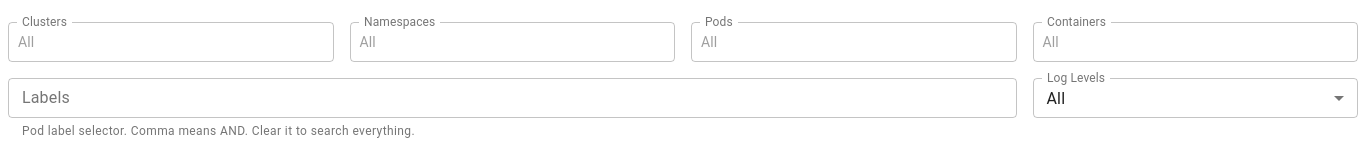
Test: PlatformLogsFilterRow filter values › falls back to the derived values when the observer cannot answer
Step 1. Click the field labelled "Pods" → (847, 42), box [717,28,978,56]
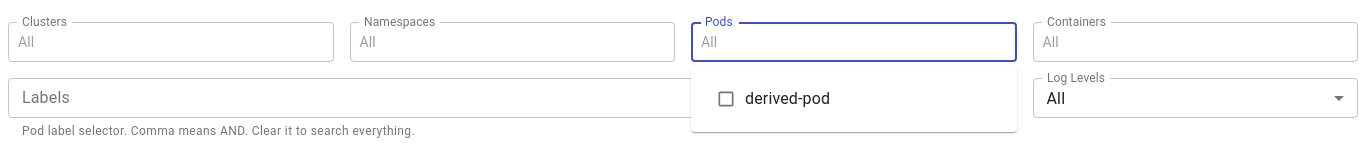
Result: the option "derived-pod" is shown at [716,89,830,109]
